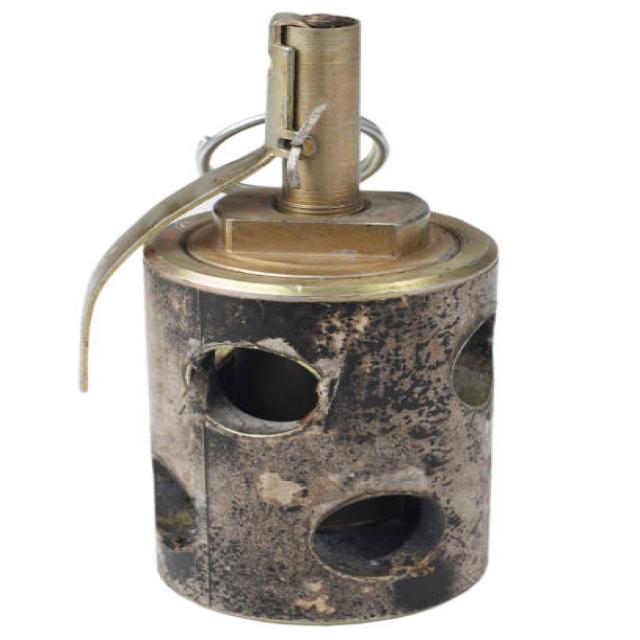grenade: (62, 3, 526, 631)
